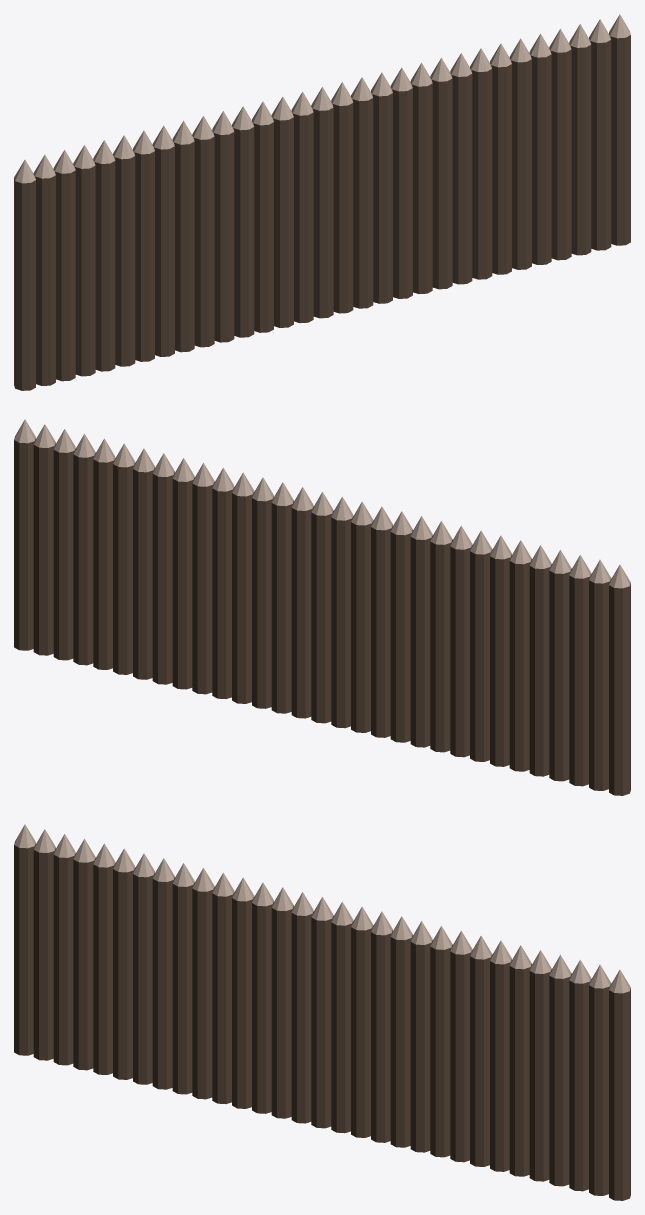
File: WoodWall.fbx
The picture shows the model from 3 angles, top to bottom: view 1: azimuth 30°, elevation 25°; view 2: azimuth 150°, elevation 25°; view 3: azimuth 330°, elevation 25°; orthographic projection.
Parts seen in each view (by area): view 1: WoodWall; view 2: WoodWall; view 3: WoodWall.
Boxes of the visible parts, x1,y1,x2,y2 form: WoodWall: (14, 14, 630, 390); WoodWall: (14, 419, 630, 795); WoodWall: (14, 824, 630, 1200).
Bounding box in the file's own units: 12.4 × 4.38 × 0.4.
